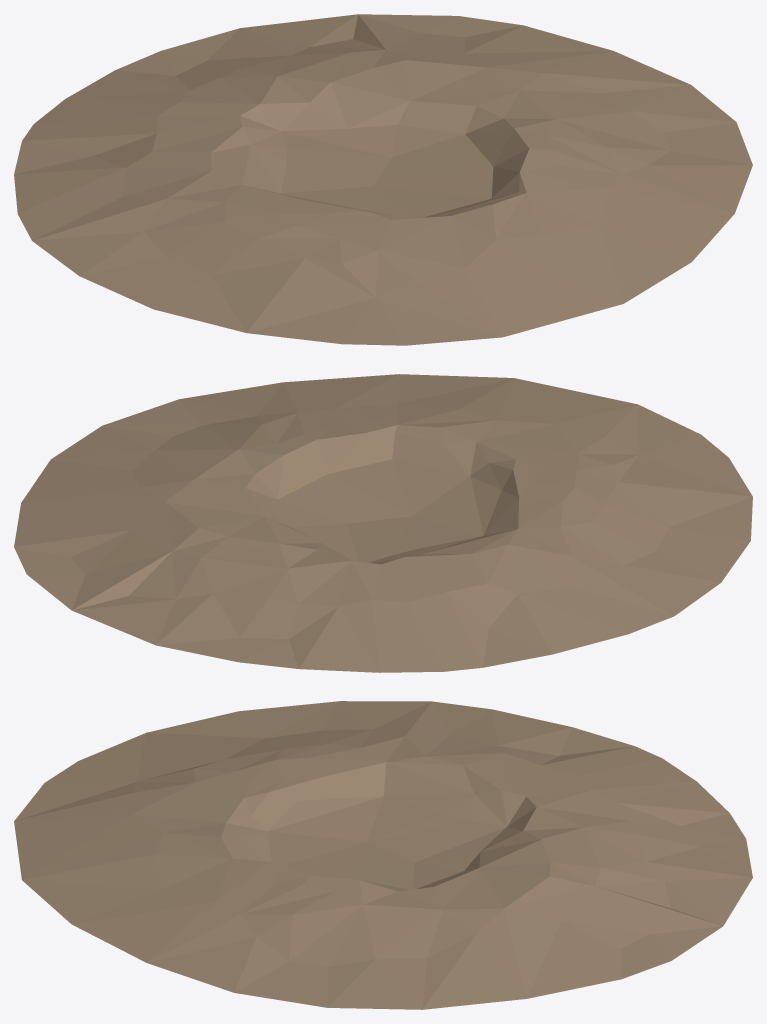
The model's file is SM_Env_Ground_Oasis_01.fbx.
3 renders of one model, top to bottom at view 1: azimuth 30°, elevation 25°; view 2: azimuth 150°, elevation 25°; view 3: azimuth 270°, elevation 25°, orthographic. The views are drawn at different scales.
Parts seen in each view (by area): view 1: SM_Env_Ground_Oasis_01; view 2: SM_Env_Ground_Oasis_01; view 3: SM_Env_Ground_Oasis_01.
Part boxes in pixels (<box>): SM_Env_Ground_Oasis_01: <box>14,14,752,345</box>; SM_Env_Ground_Oasis_01: <box>14,374,752,672</box>; SM_Env_Ground_Oasis_01: <box>14,701,752,1009</box>.
Bounding box in the file's own units: 2889 × 135 × 2923.
